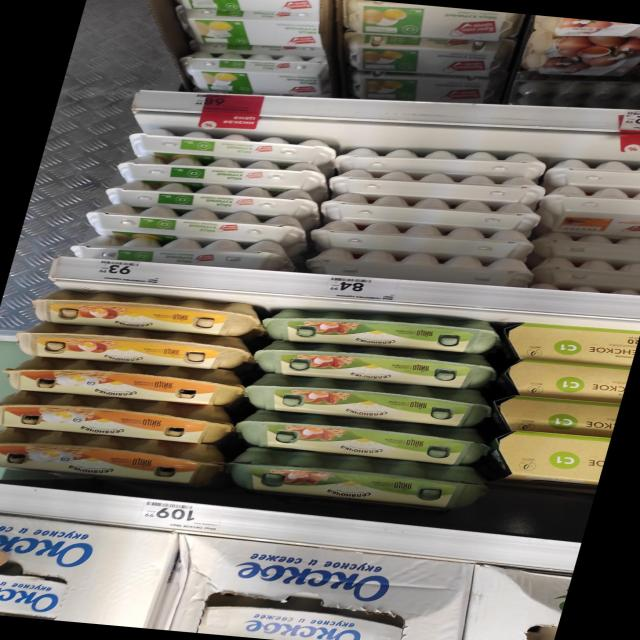organic waste: (218, 446, 498, 516), (230, 407, 498, 468), (0, 424, 231, 492), (241, 369, 498, 429), (0, 350, 250, 410), (0, 386, 241, 448), (251, 336, 504, 392), (7, 318, 259, 374), (258, 304, 505, 359), (24, 286, 268, 341), (82, 198, 310, 249), (66, 227, 300, 276), (112, 148, 328, 198), (103, 173, 324, 221), (124, 122, 335, 168), (172, 47, 342, 102), (334, 0, 529, 47), (196, 598, 410, 640), (339, 31, 513, 82), (171, 6, 328, 54), (521, 26, 640, 89), (347, 68, 505, 111), (0, 570, 69, 619), (154, 0, 323, 20)
